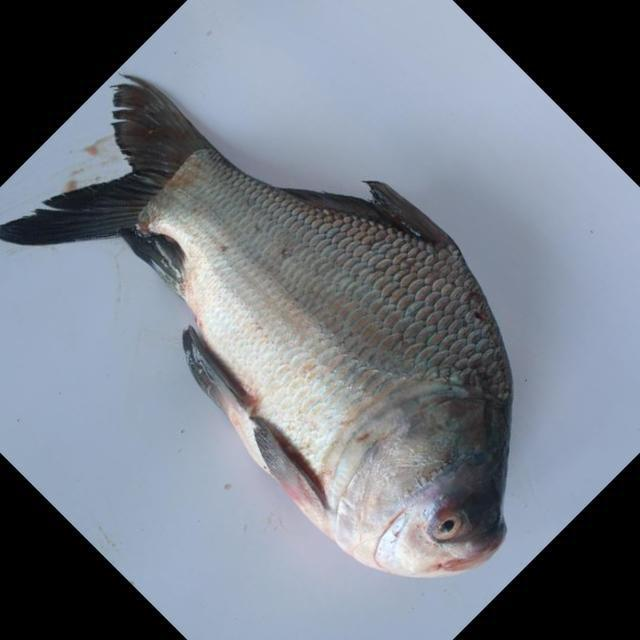Catla: (3, 67, 560, 589)
